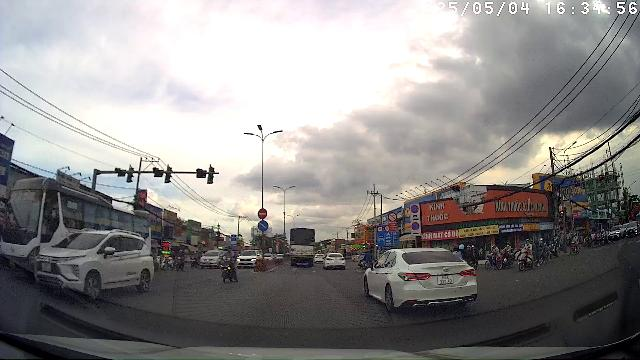102-cam-di-nguoc-chieu: (258, 209, 266, 219)
302a-huong-phai-di-vong-chuong-ngai-vat-1: (258, 221, 268, 231)
